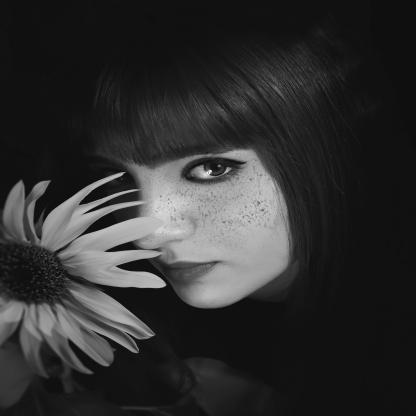Eye: (184, 158, 245, 184), (96, 168, 134, 186)
Mouth: (154, 260, 218, 280)
Nose: (132, 184, 194, 250)
